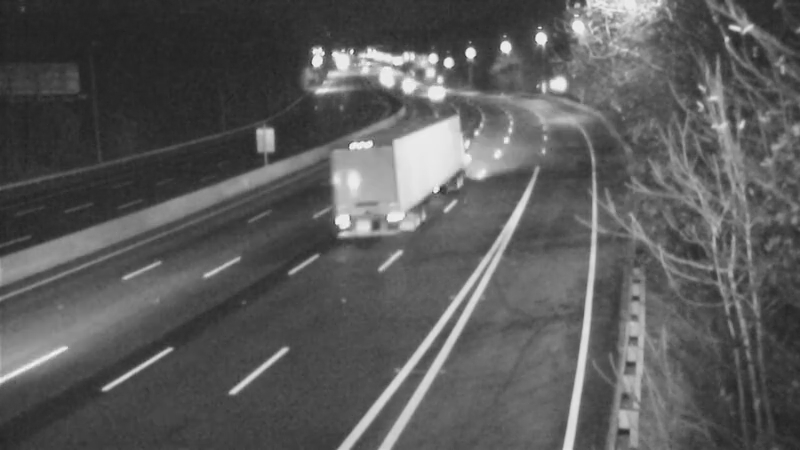vehicle: (350, 150, 430, 230), (381, 59, 431, 109), (412, 66, 462, 116)
